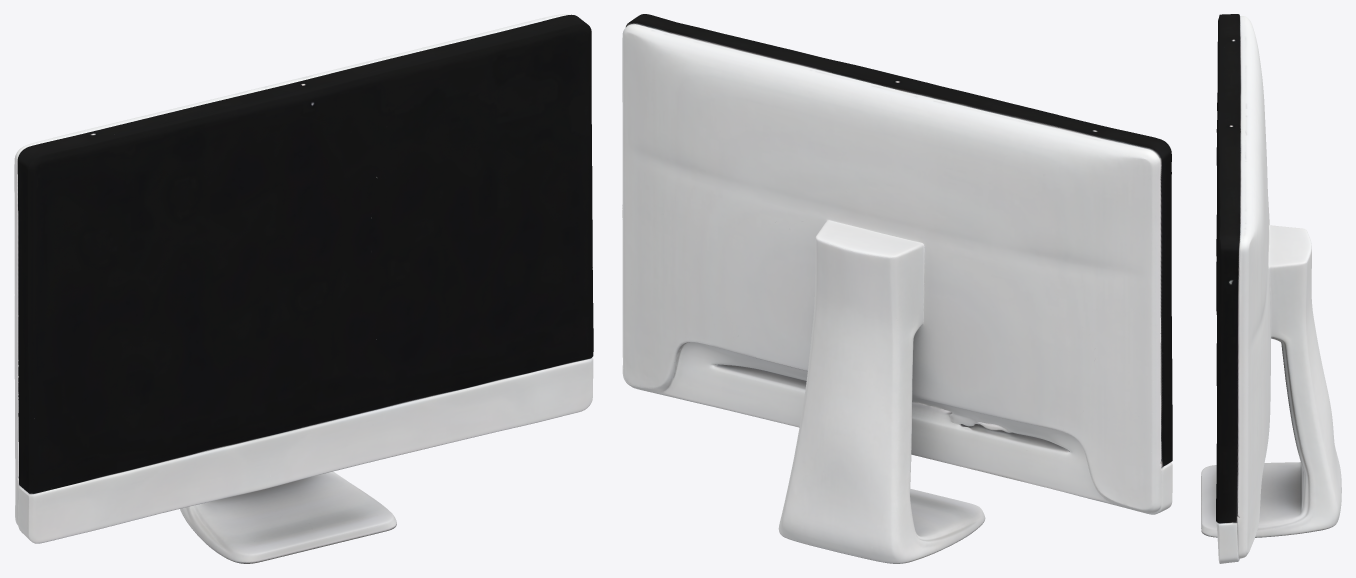
The model's file is monitor.glb.
The picture shows the model from 3 angles, left to right: view 1: azimuth 30°, elevation 25°; view 2: azimuth 150°, elevation 25°; view 3: azimuth 270°, elevation 25°; orthographic projection. The views are drawn at different scales.
Parts seen in each view (by area): view 1: model; view 2: model; view 3: model.
Boxes of the visible parts, x1,y1,x2,y2 form: model: (14,14,593,563); model: (622,14,1172,563); model: (1201,14,1341,563).
Bounding box in the file's own units: 0.6546 × 0.5 × 0.1683.
Materials: 1 (1 with a texture image).
